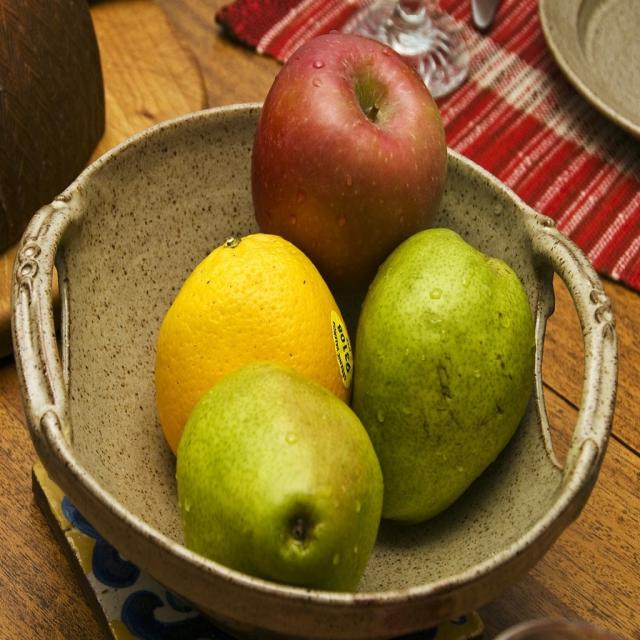Healty Apple: (242, 34, 453, 277)
